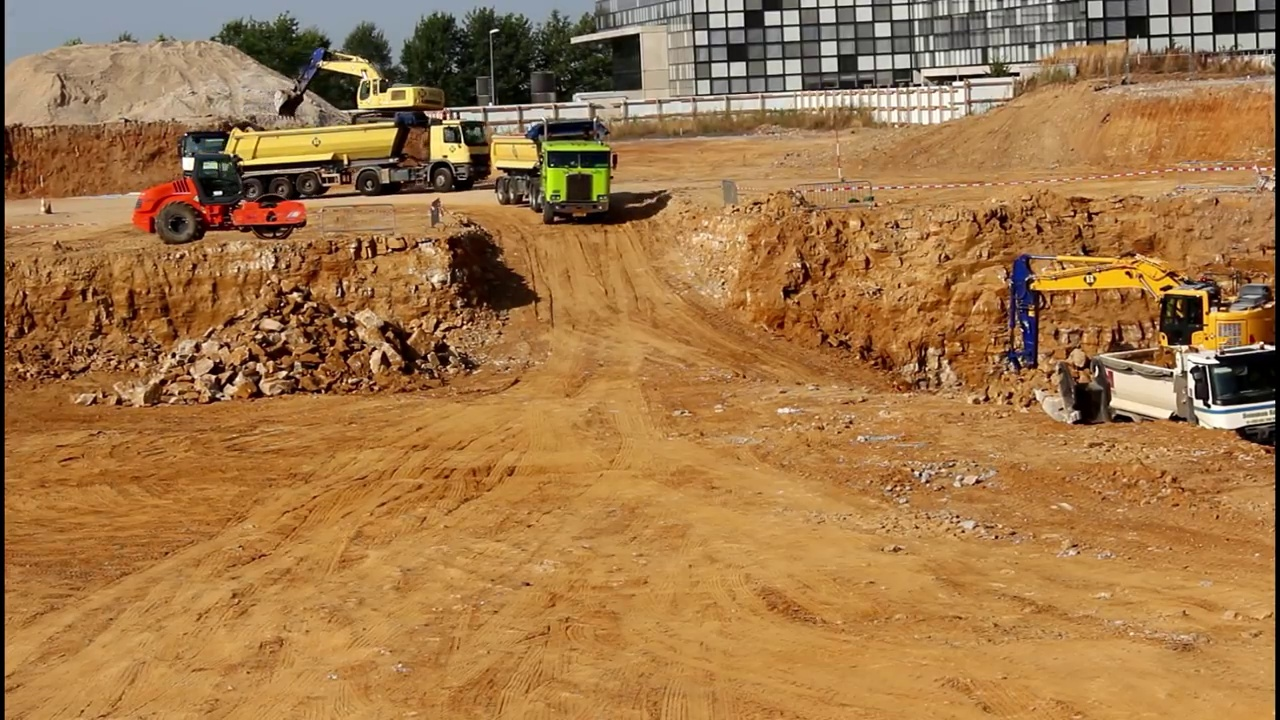compactor: (129, 151, 315, 252)
excavator: (998, 241, 1280, 394), (271, 41, 449, 154)
truck: (1080, 333, 1280, 453), (208, 121, 490, 199), (490, 117, 633, 230), (176, 116, 242, 203)
